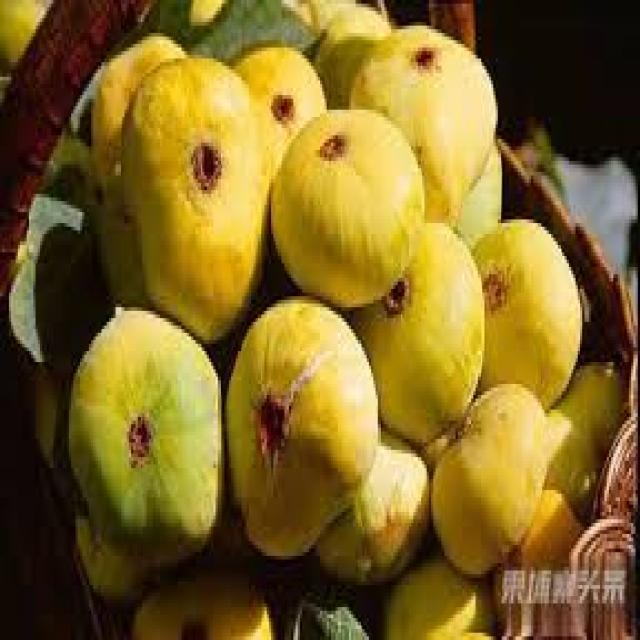organic waste: (122, 51, 269, 340), (222, 292, 376, 556), (67, 304, 220, 563), (264, 102, 420, 300), (346, 18, 496, 216), (349, 219, 480, 432), (426, 380, 544, 574), (471, 215, 580, 398), (311, 421, 429, 585), (86, 25, 186, 208), (229, 37, 324, 179), (378, 538, 496, 636), (74, 505, 194, 596), (131, 567, 273, 636), (304, 0, 386, 106), (542, 402, 598, 520), (96, 186, 151, 304), (556, 358, 624, 450), (187, 0, 311, 44), (27, 362, 62, 465), (458, 139, 500, 219), (0, 0, 40, 66), (444, 626, 498, 636)
